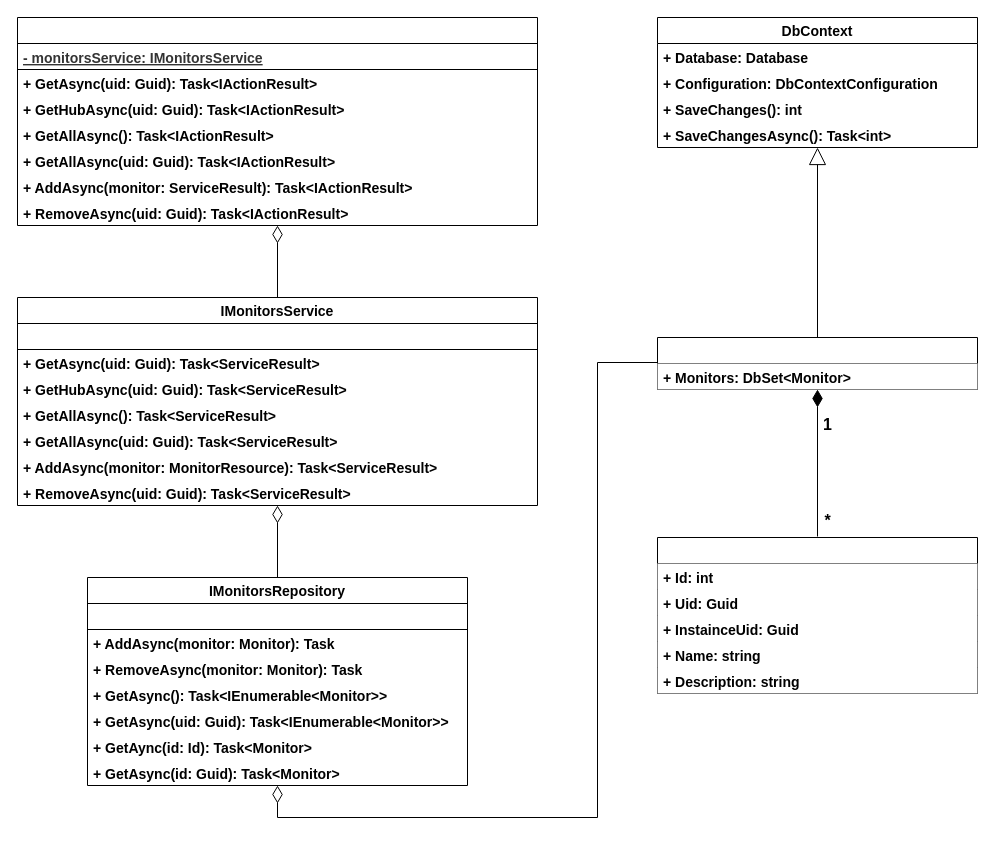
The diagram is 995 pixels wide and 852 high, and some of its shapes have lost their labels. The box of each missing label's shape, as (x1, y1, x2, y2) in pixels:
- context: MonitoringContext: (86, 602, 468, 630)
- monitorsRepository: IMonitorsRepository: (16, 322, 538, 350)
Monitor: (656, 536, 978, 694)
MonitoringContext: (656, 336, 978, 390)
MonitorsController: (16, 16, 538, 226)
